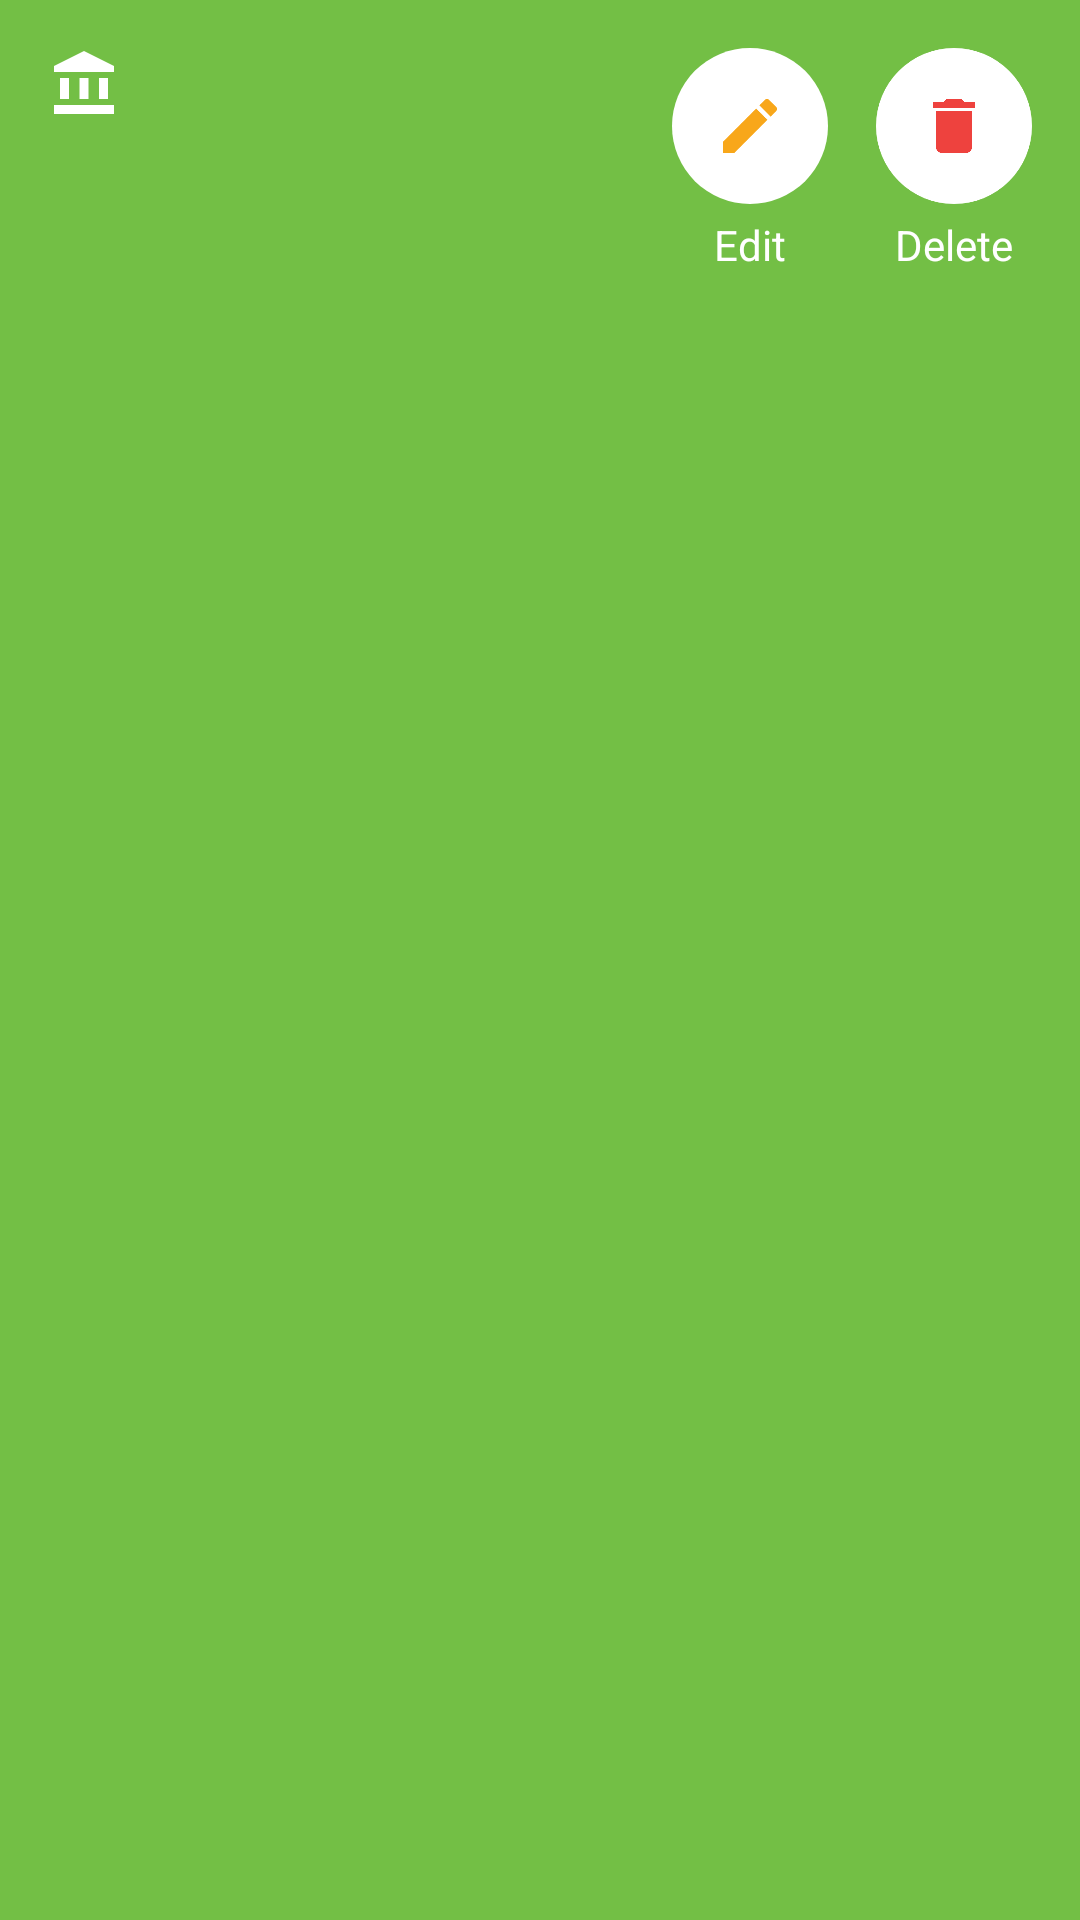

Icons on this 1080 x 1920 Android screen, each with its box as (x1, y1, x2, y2):
bank: (54, 51, 114, 114)
